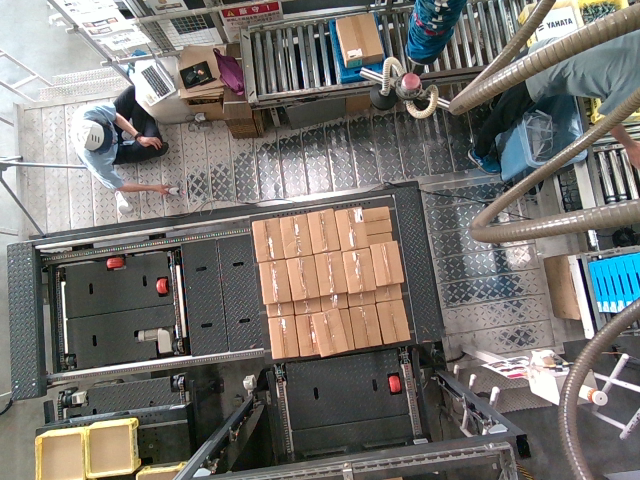box: (251, 218, 287, 262), (306, 208, 342, 252), (279, 214, 315, 258), (332, 206, 368, 250), (255, 258, 291, 302), (285, 255, 321, 299), (313, 251, 349, 295), (340, 251, 376, 295), (367, 240, 403, 284), (265, 313, 301, 357), (311, 309, 347, 353), (376, 300, 412, 344), (352, 305, 388, 349)
